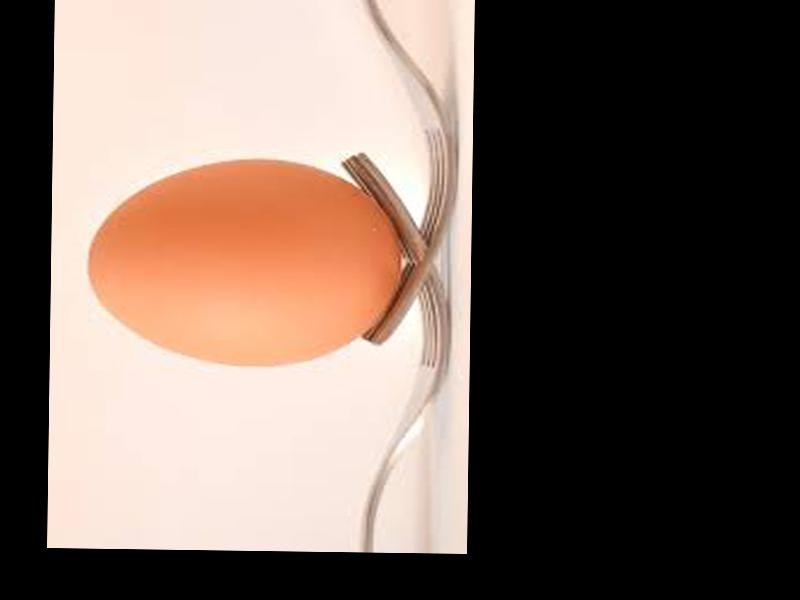Eggs: (87, 157, 402, 368)
